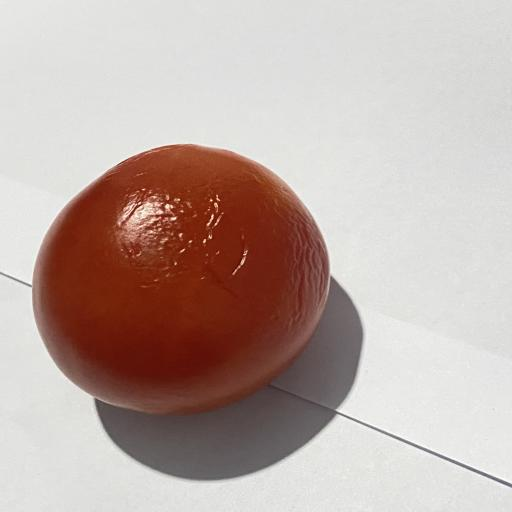spoiled: (33, 145, 329, 414)
